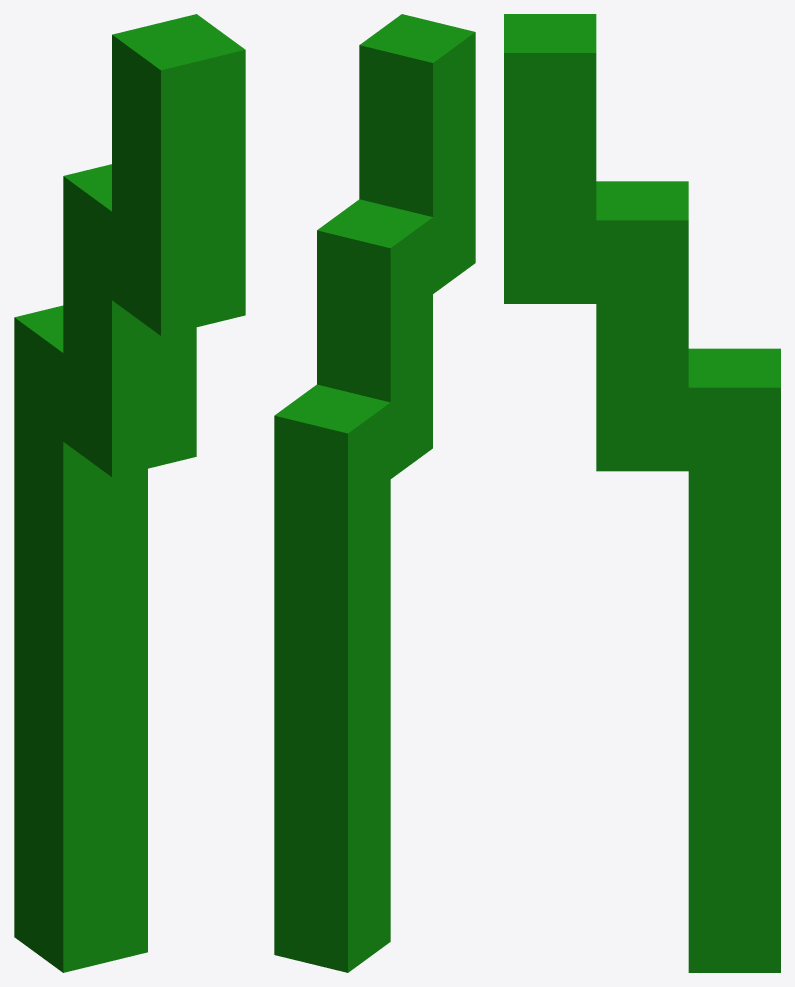
The model's file is grass blade.gltf.
3 renders of one model, left to right at view 1: azimuth 30°, elevation 25°; view 2: azimuth 150°, elevation 25°; view 3: azimuth 270°, elevation 25°, orthographic. The views are drawn at different scales.
Parts seen in each view (by area): view 1: Layer.1; view 2: Layer.1; view 3: Layer.1.
Boxes of the visible parts, x1,y1,x2,y2 form: Layer.1: [14, 14, 245, 972]; Layer.1: [274, 14, 475, 972]; Layer.1: [504, 14, 780, 972].
Size of the model in its own units: 1 by 11 by 3.
Materials: 1 (1 with a texture image).
